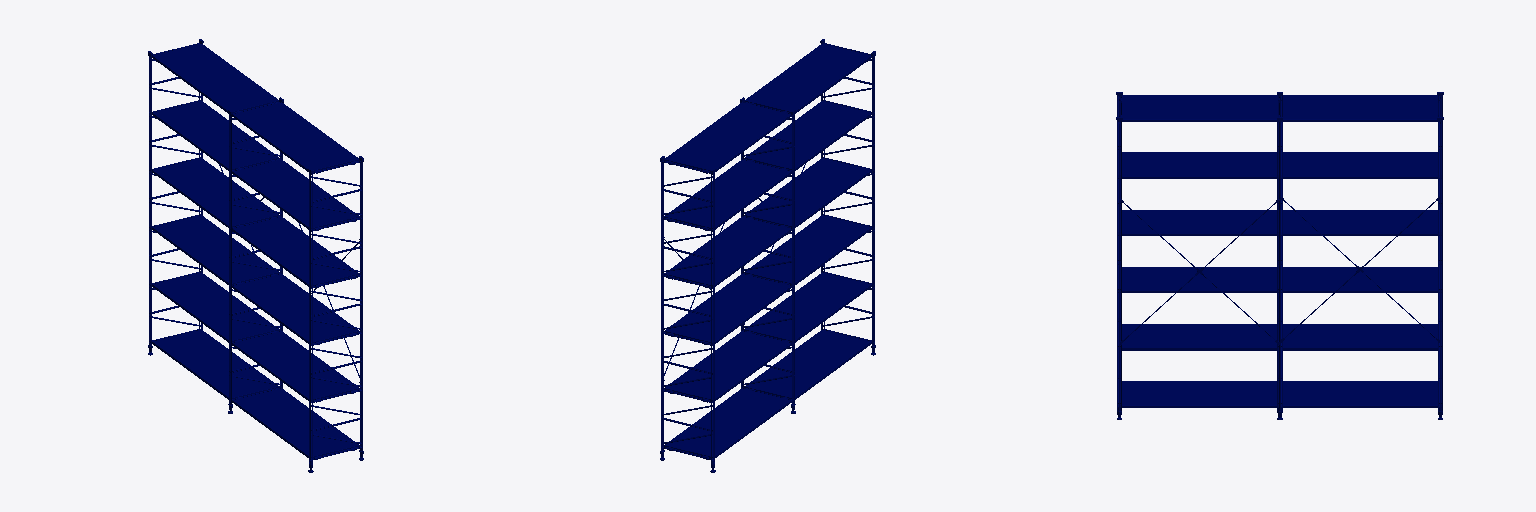
3 renders of one model, left to right at view 1: azimuth 30°, elevation 25°; view 2: azimuth 150°, elevation 25°; view 3: azimuth 270°, elevation 25°, orthographic.
Visible parts, largest first — view 1: file.005; view 2: file.005; view 3: file.005.
Part boxes in pixels (x1,y1,x2,y2): file.005: (148,39,363,472); file.005: (660,39,875,472); file.005: (1116,92,1443,419).
Size of the model in its own units: 0.9623 by 5.03 by 4.93.